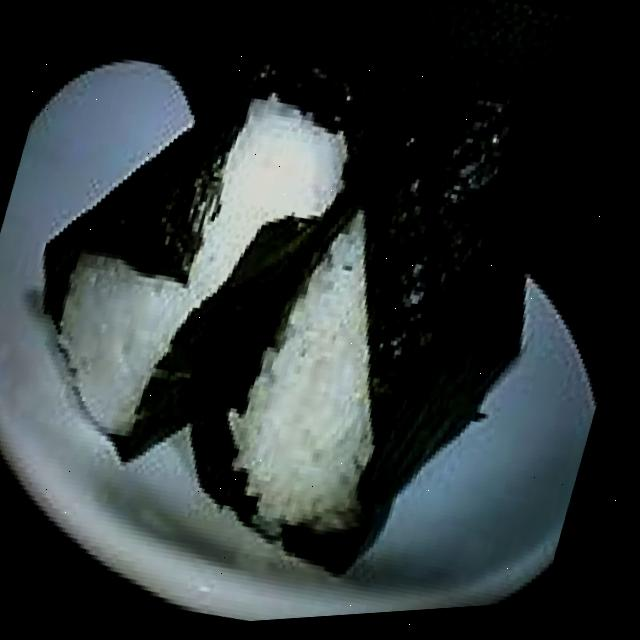米饭主食: (183, 52, 585, 586), (0, 0, 366, 511)
